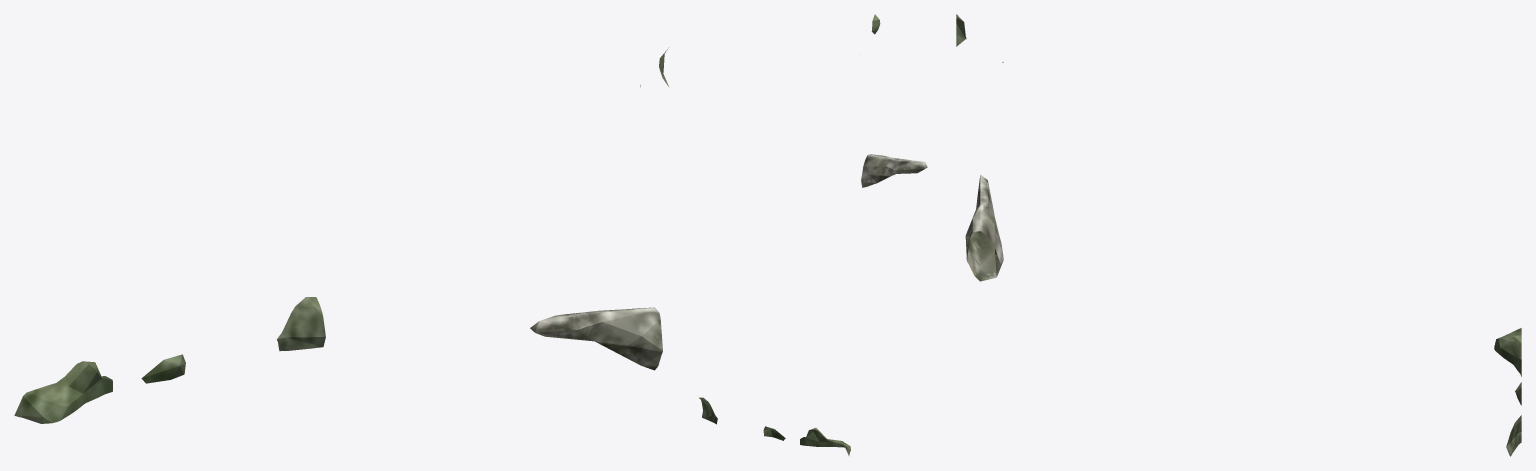
The picture shows the model from 3 angles, left to right: view 1: azimuth 30°, elevation 25°; view 2: azimuth 150°, elevation 25°; view 3: azimuth 270°, elevation 25°; orthographic projection. The views are drawn at different scales.
Bounding box in the file's own units: 2.91 × 5.1 × 5.9.
1 material, 1 textured.
